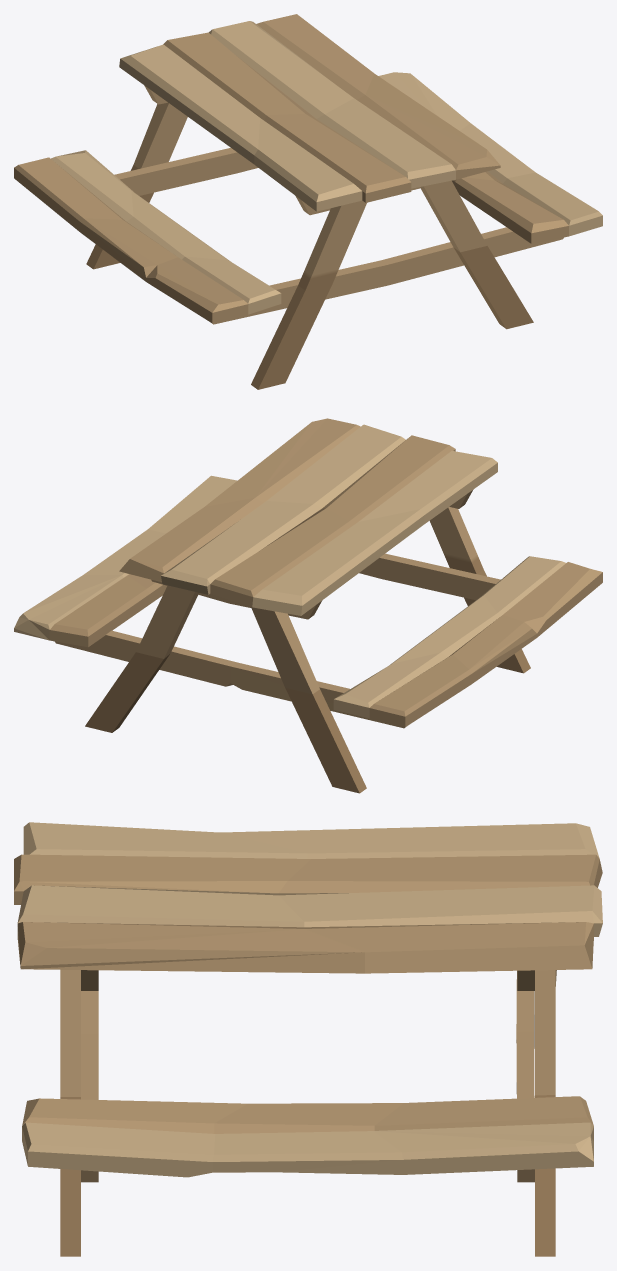
File: SM_Prop_Table_Outdoor_01.glb
The picture shows the model from 3 angles, top to bottom: view 1: azimuth 30°, elevation 25°; view 2: azimuth 150°, elevation 25°; view 3: azimuth 270°, elevation 25°; orthographic projection. The views are drawn at different scales.
Visible parts, largest first — view 1: SM_Prop_Table_Outdoor_01; view 2: SM_Prop_Table_Outdoor_01; view 3: SM_Prop_Table_Outdoor_01.
Part boxes in pixels (box(x1,y1,x2,y2)): SM_Prop_Table_Outdoor_01: box(14, 14, 602, 389); SM_Prop_Table_Outdoor_01: box(14, 418, 602, 793); SM_Prop_Table_Outdoor_01: box(14, 822, 602, 1256).
Size of the model in its own units: 2.15 by 0.9974 by 1.93.
1 material, 1 textured.
